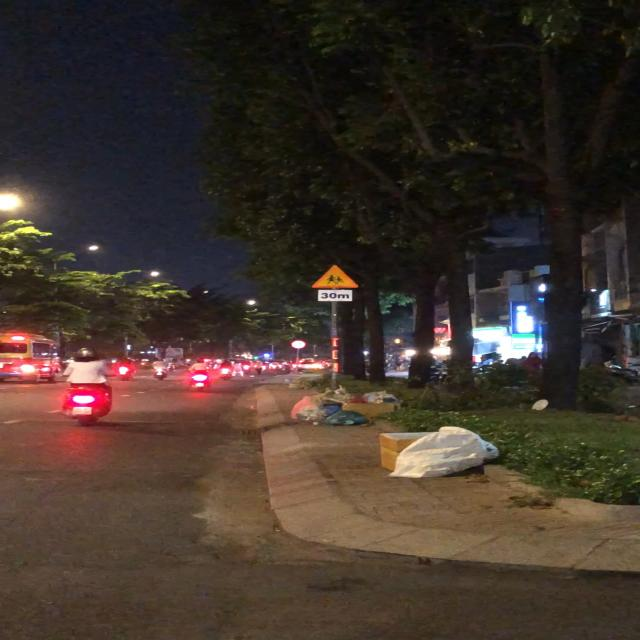Bien bao tre em: (306, 262, 359, 290)
